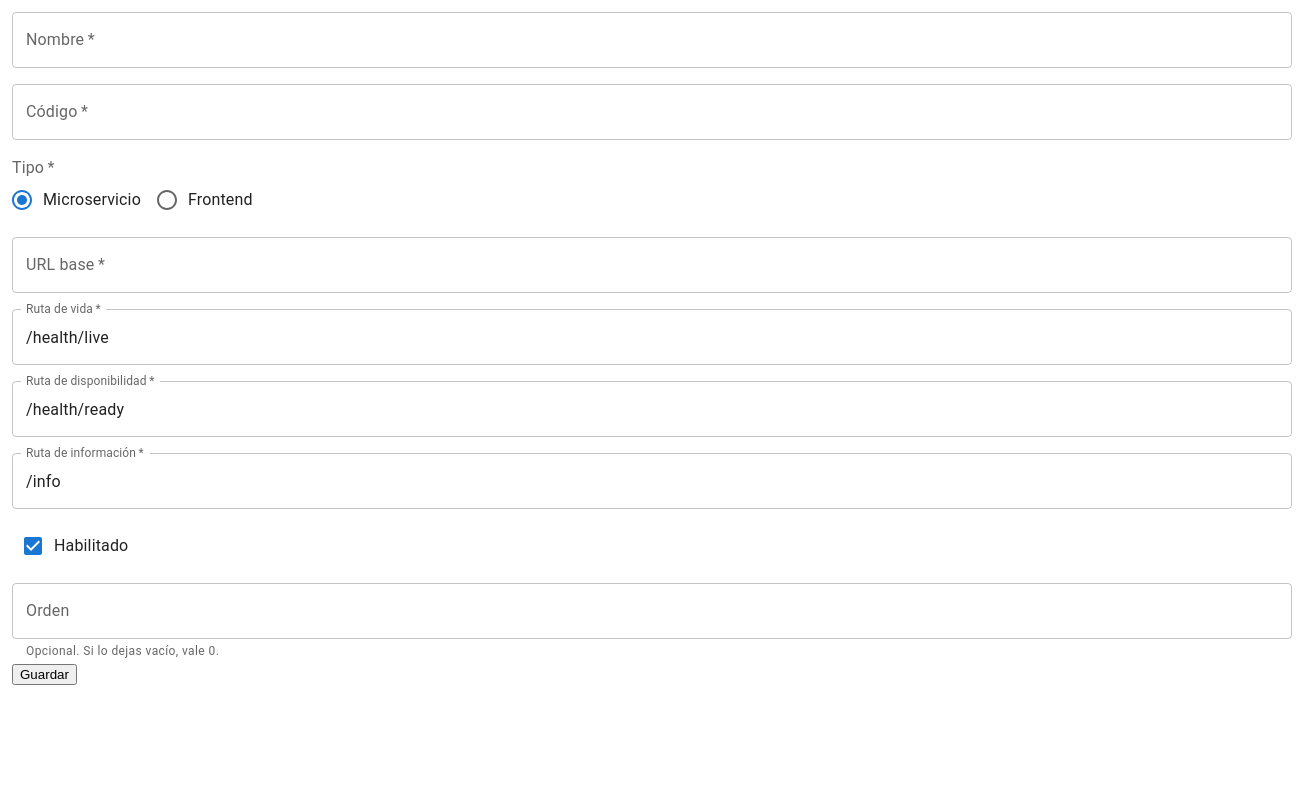
ComponentFormFields › asks a frontend for its health route, with an optional information route and a warning, without readiness
Click the radio button labelled "Frontend": x=204, y=200 [155, 188, 253, 212]
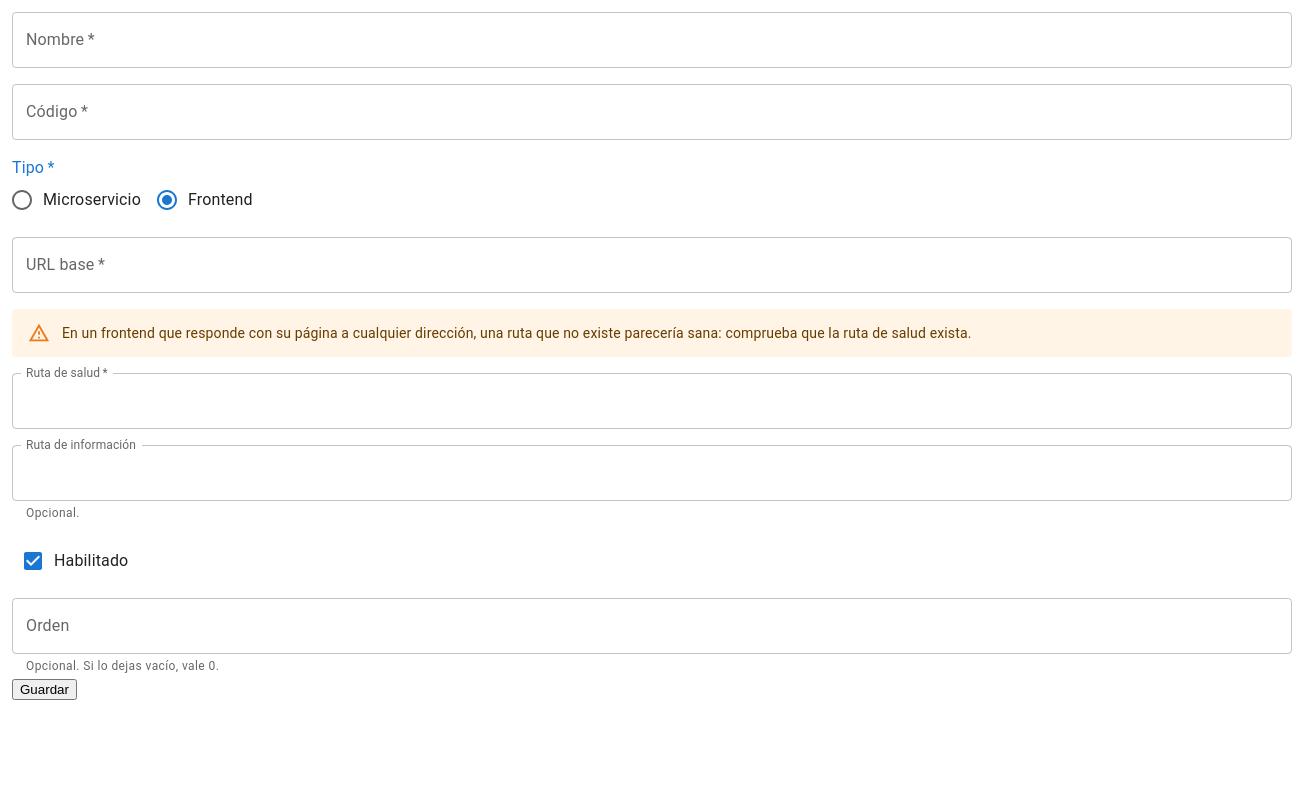
expect the text "Opcional." is shown: met, box [26, 506, 80, 520]
expect the label "Ruta de disponibilidad" is gone: met
expect the text "En un frontend que responde con su página a cualquier dirección, una ruta que no existe parecería sana: comprueba que la" is shown: met, box [62, 325, 972, 341]
